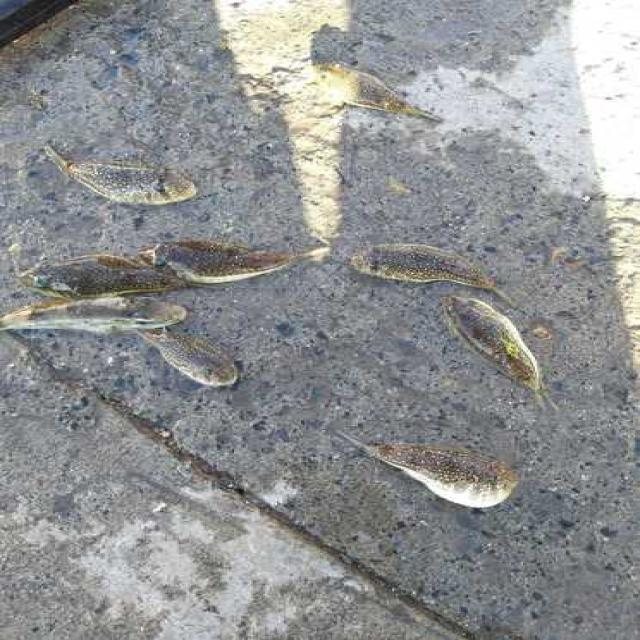Balik: (339, 433, 517, 508), (443, 296, 553, 407), (351, 244, 513, 305), (45, 146, 196, 204), (140, 240, 328, 284), (19, 254, 187, 298), (317, 63, 442, 121), (0, 297, 187, 334), (140, 329, 239, 386)
